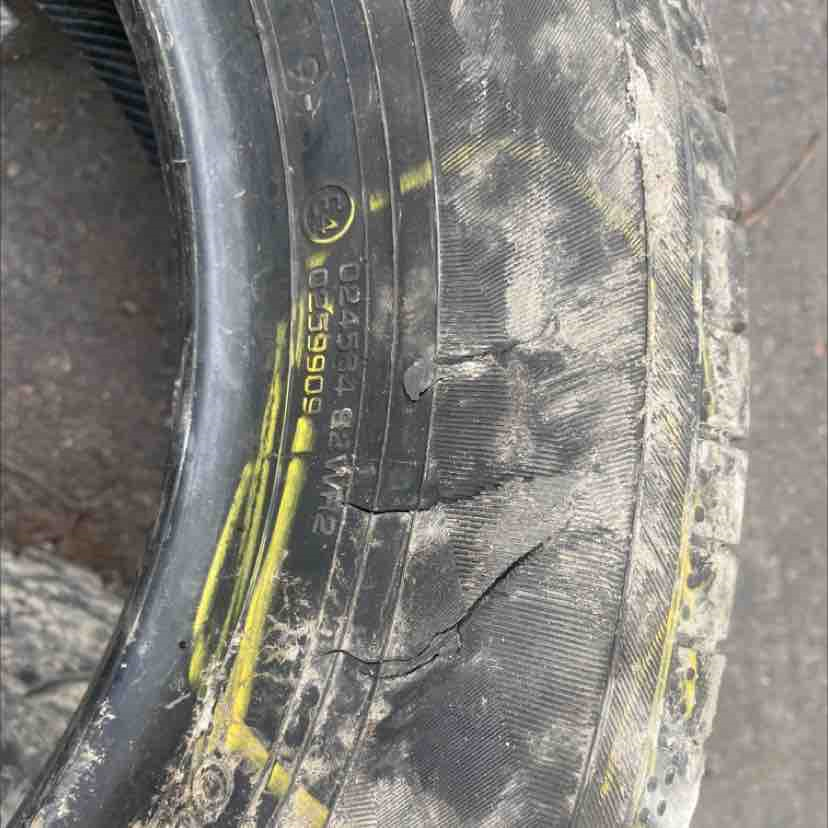cut: (317, 538, 541, 690), (396, 319, 552, 410), (338, 462, 525, 520)
